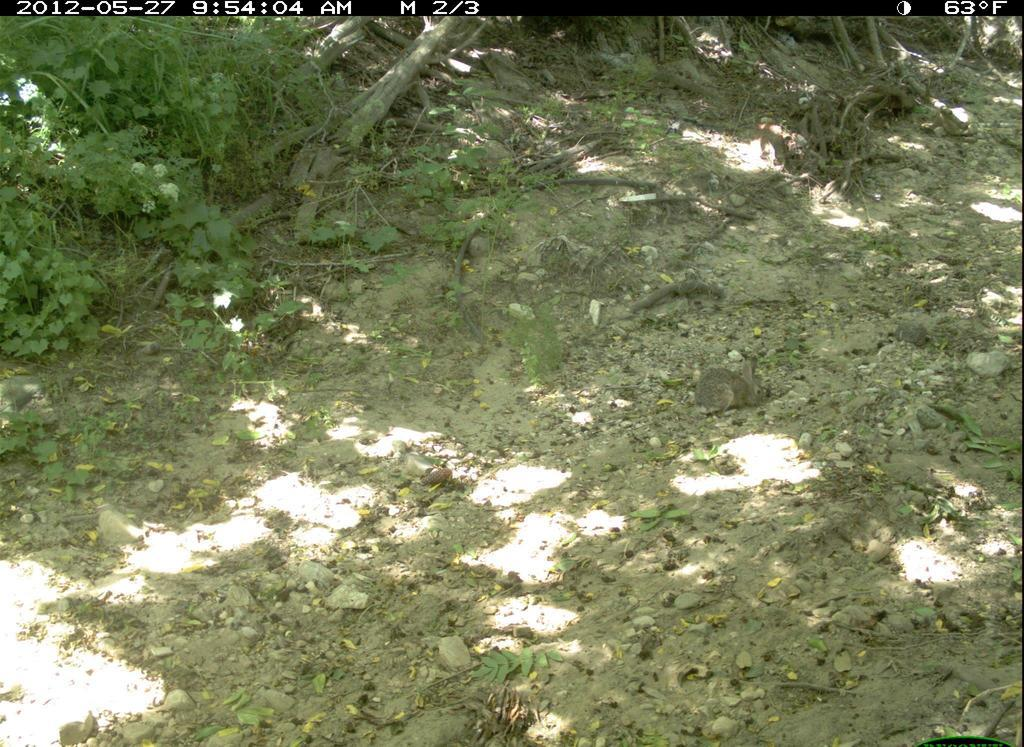rabbit: (692, 354, 766, 422)
